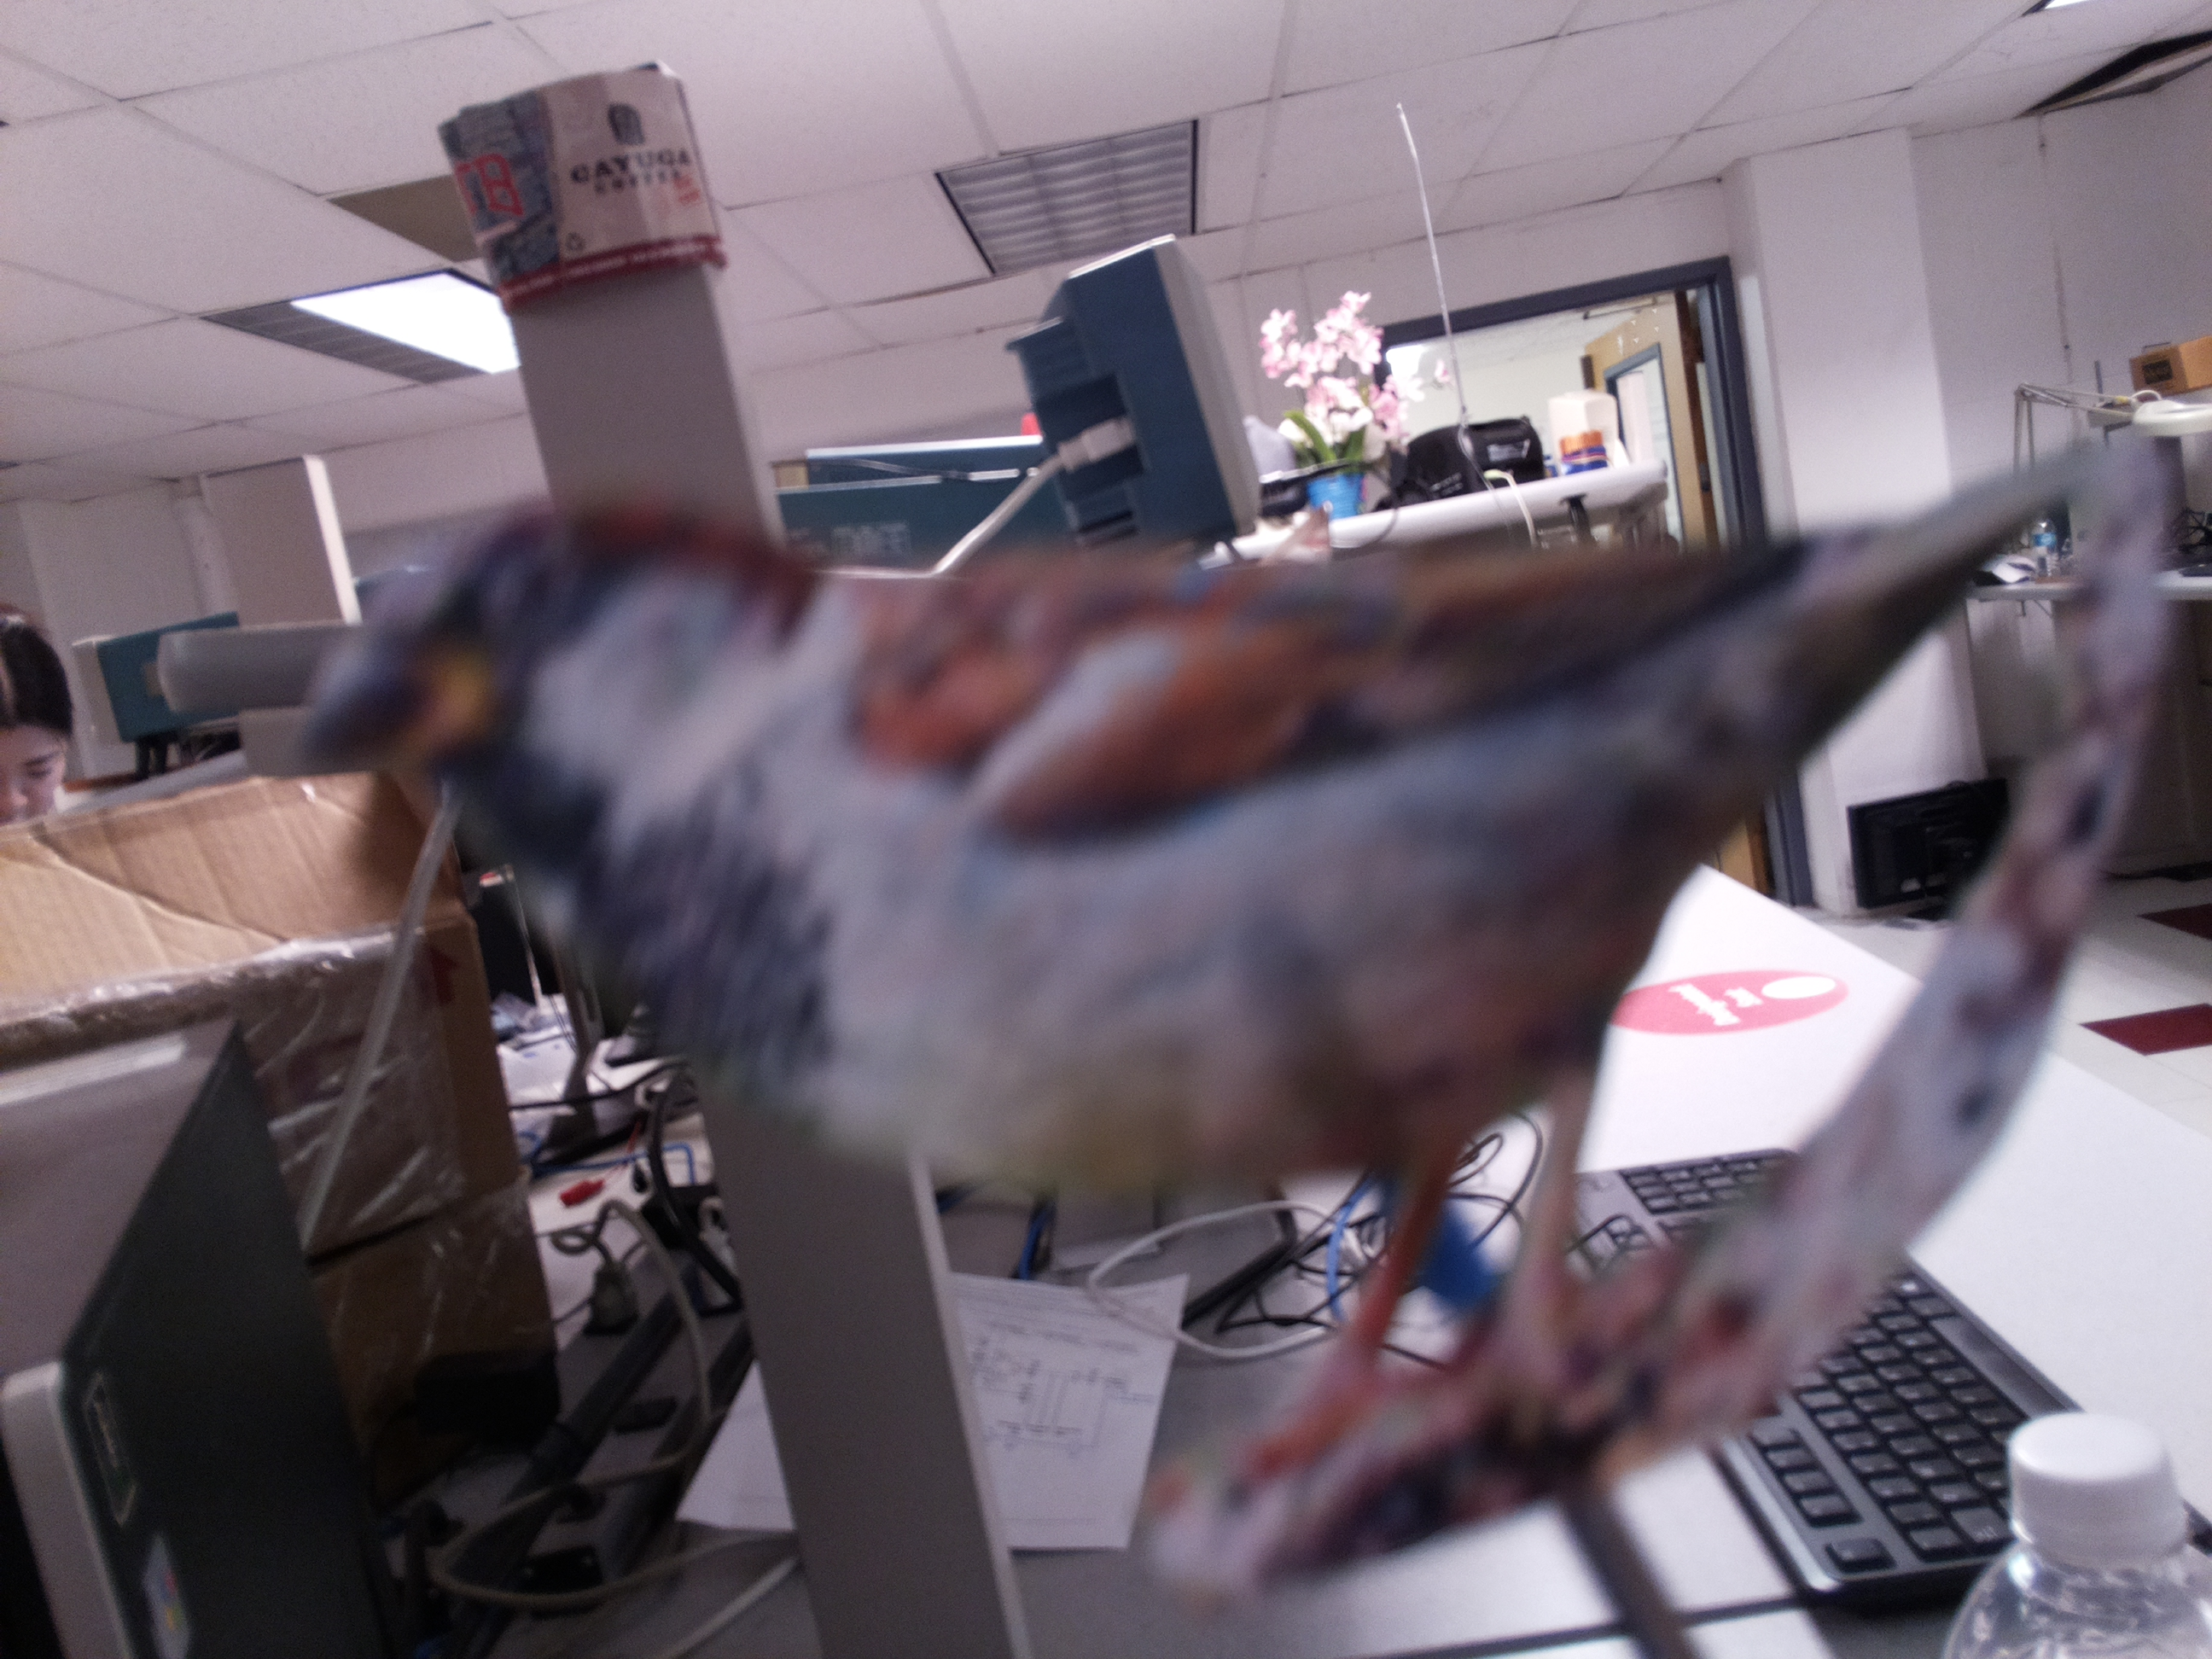bird: (275, 451, 2067, 1474)
